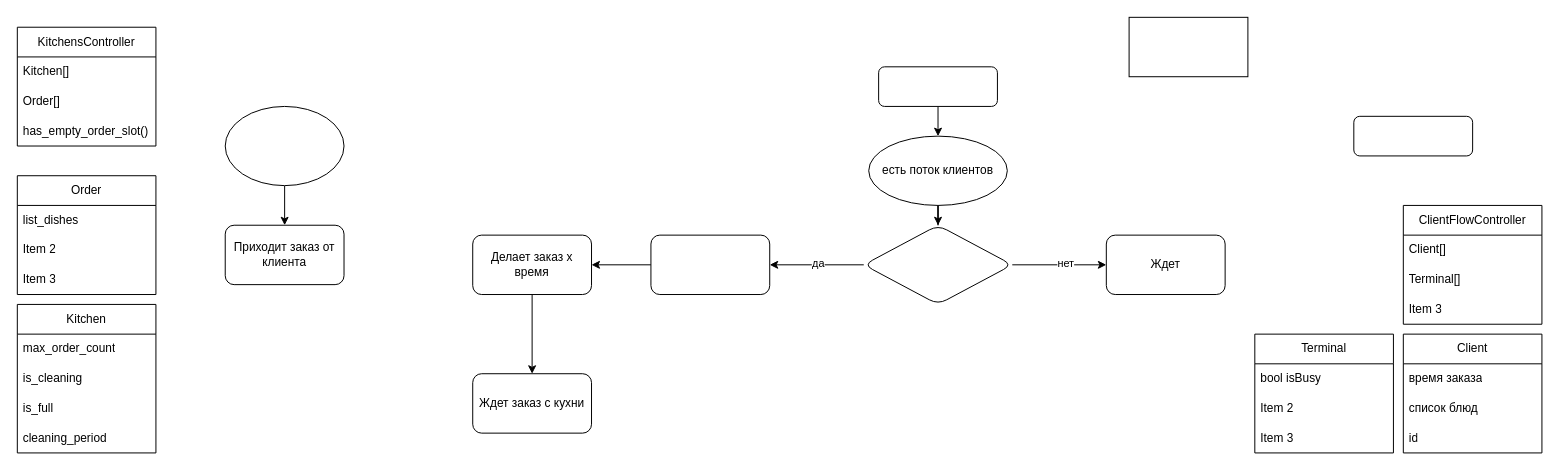
Some shapes in this 1559 by 470 pixel diagram are drawn without their labels. Each missing label, with the centre of its shape:
"ВкусОЧКА" goes at pixel 1188 46.
"Есть кухни" goes at pixel 284 145.
"Есть ли свободные терминалы" goes at pixel 937 264.
"Клиент идет к терминалу" goes at pixel 710 264.
"Многопоточный" goes at pixel 1413 135.
"Однопоточный" goes at pixel 937 86.
